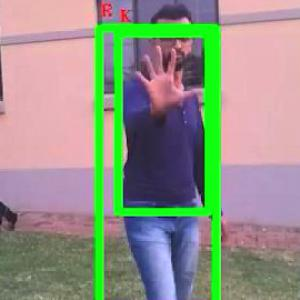follow_hand: (126, 38, 204, 114)
